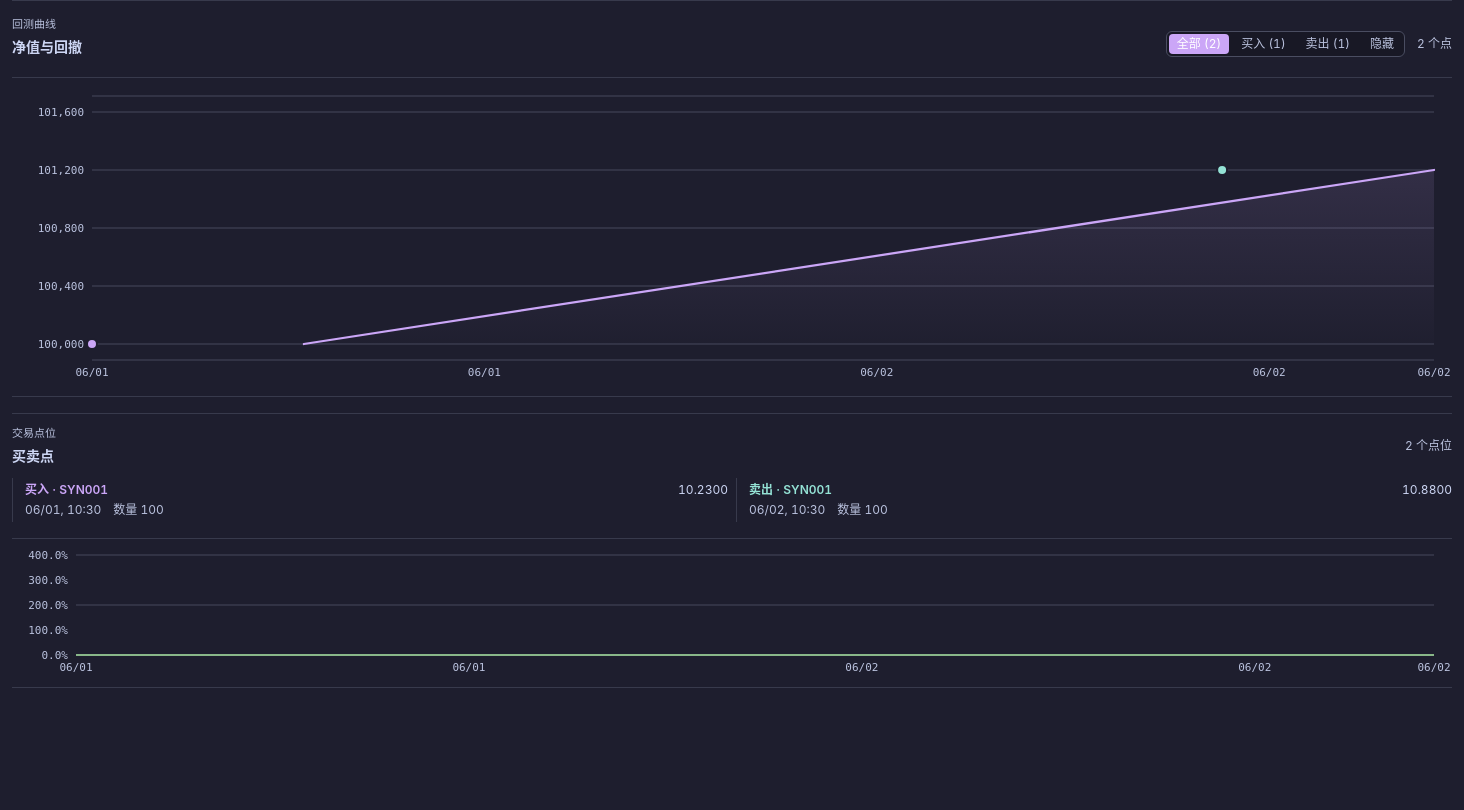
Scenario: allows filtering markers by side or hiding them
Expected: the element with test id "backtest-marker-filter-controls" is shown, [1166,31,1405,57]
Click the button "买入 (1)" at (1263, 44), box [1233,34,1294,54]
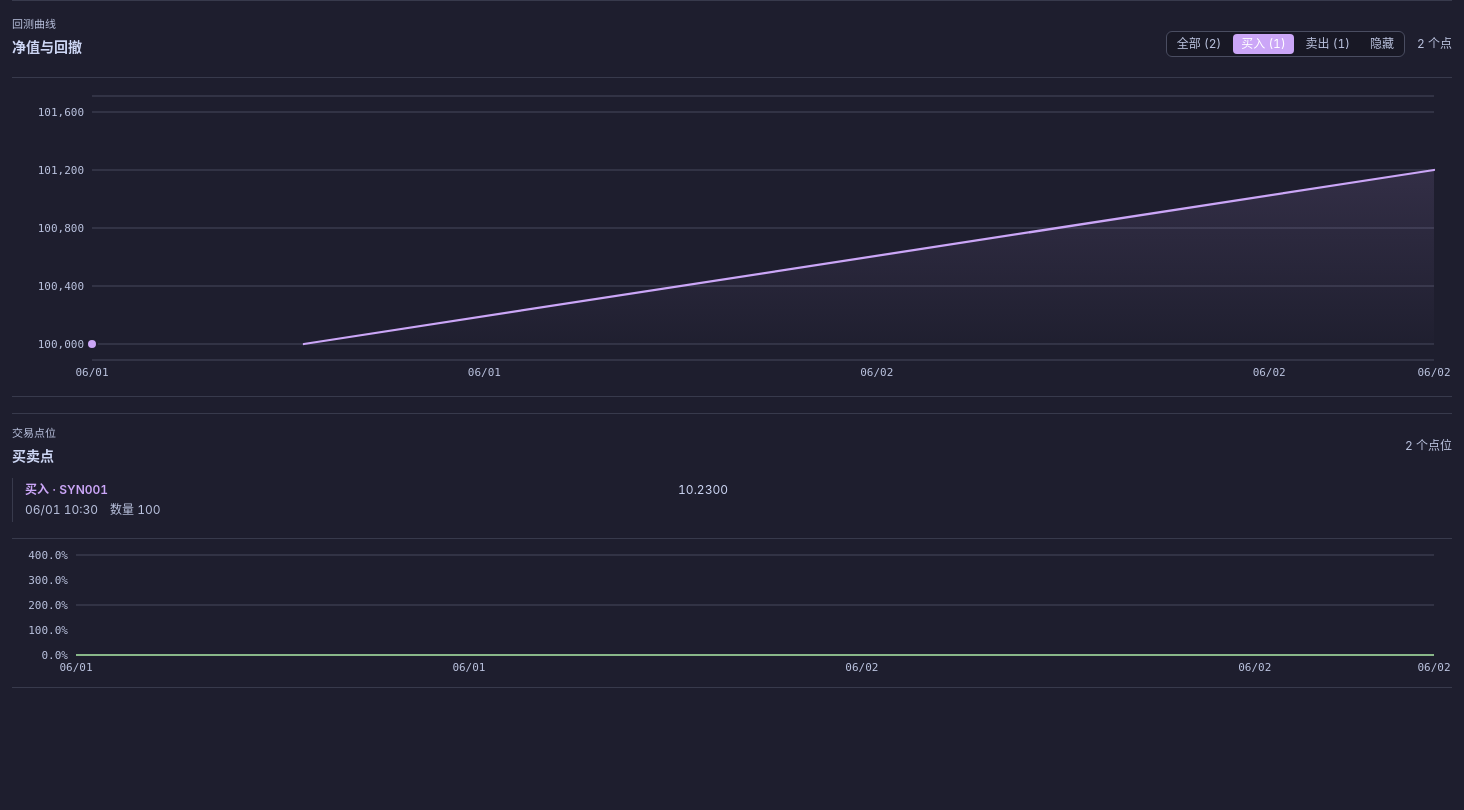
Expected: the text "买入 · SYN001" is shown, [25,482,108,498]
Expected: the text "卖出 · SYN001" is gone
Click the button "隐藏" at (1382, 44), box [1362,34,1402,54]
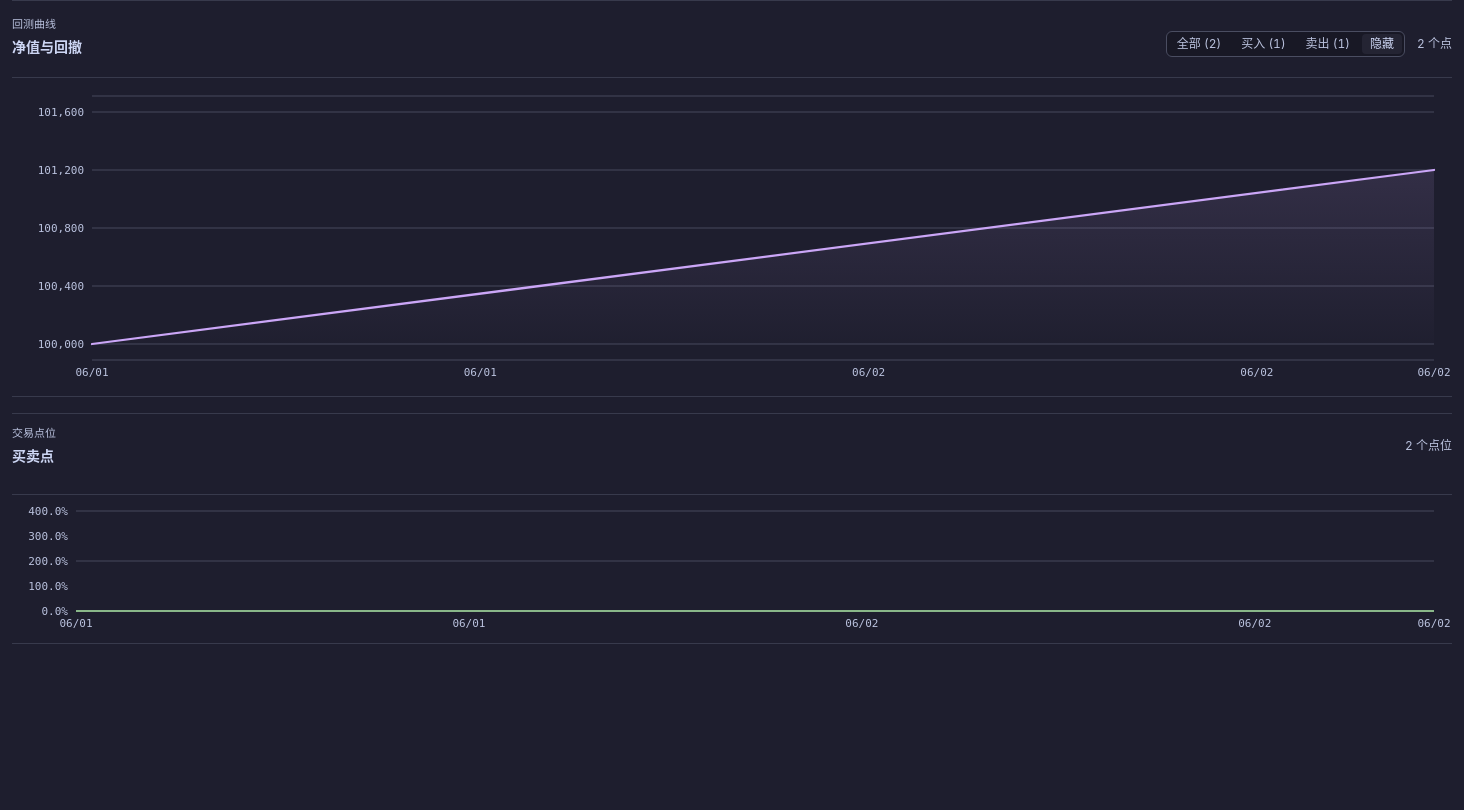
Expected: the text "卖出 · SYN001" is not shown
Expected: the text "买入 · SYN001" is gone
